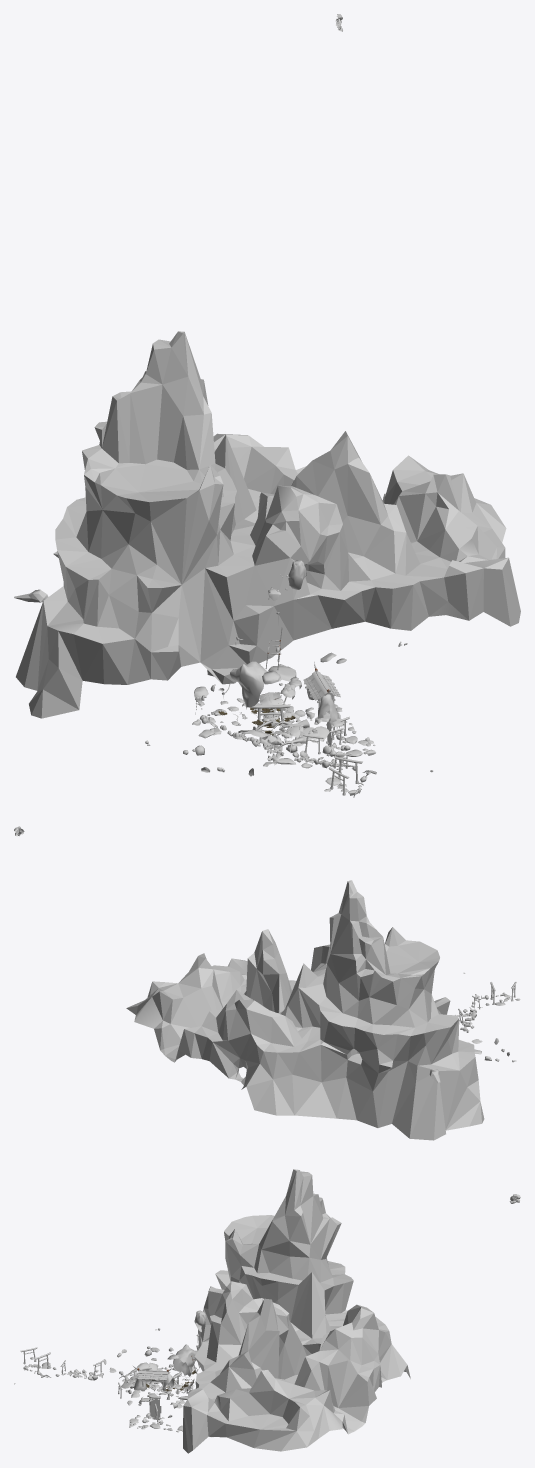
3 renders of one model, top to bottom at view 1: azimuth 30°, elevation 25°; view 2: azimuth 150°, elevation 25°; view 3: azimuth 270°, elevation 25°, orthographic. The views are drawn at different scales.
Visible parts, largest first — view 1: m01a03OMesh_OccluderMesh_0, m01a03yama05_1_Group_0_Sub_1__B_iwa01, m01a03inuiwa01_1_Group_0_Sub_1__B_iwa01_mos, m01a03yama06_1_Group_0_Sub_1__B_iwa01_mos, m01a03yama03_1_Group_0_Sub_5__B_iwa01_mos; view 2: m01a03OMesh_OccluderMesh_0; view 3: m01a03OMesh_OccluderMesh_0, m01a03inuiwa01_1_Group_0_Sub_1__B_iwa01_mos, m01a03yama05_1_Group_0_Sub_1__B_iwa01, m01a03yama02_1_Group_0_Sub_3__B_iwa01_mos2, m01a03yama03_1_Group_0_Sub_5__B_iwa01_mos.
Part boxes in pixels (bbox=[...]): m01a03OMesh_OccluderMesh_0: bbox=[14, 331, 520, 718]; m01a03yama05_1_Group_0_Sub_1__B_iwa01: bbox=[206, 560, 357, 750]; m01a03inuiwa01_1_Group_0_Sub_1__B_iwa01_mos: bbox=[229, 661, 288, 709]; m01a03yama06_1_Group_0_Sub_1__B_iwa01_mos: bbox=[238, 663, 318, 749]; m01a03yama03_1_Group_0_Sub_5__B_iwa01_mos: bbox=[192, 688, 375, 768]; m01a03OMesh_OccluderMesh_0: bbox=[126, 880, 484, 1140]; m01a03OMesh_OccluderMesh_0: bbox=[183, 1169, 410, 1453]; m01a03inuiwa01_1_Group_0_Sub_1__B_iwa01_mos: bbox=[151, 1344, 197, 1376]; m01a03yama05_1_Group_0_Sub_1__B_iwa01: bbox=[129, 1310, 213, 1437]; m01a03yama02_1_Group_0_Sub_3__B_iwa01_mos2: bbox=[14, 1346, 184, 1408]; m01a03yama03_1_Group_0_Sub_5__B_iwa01_mos: bbox=[127, 1347, 173, 1429].
Bounding box in the file's own units: 27929 × 25764 × 36640.
